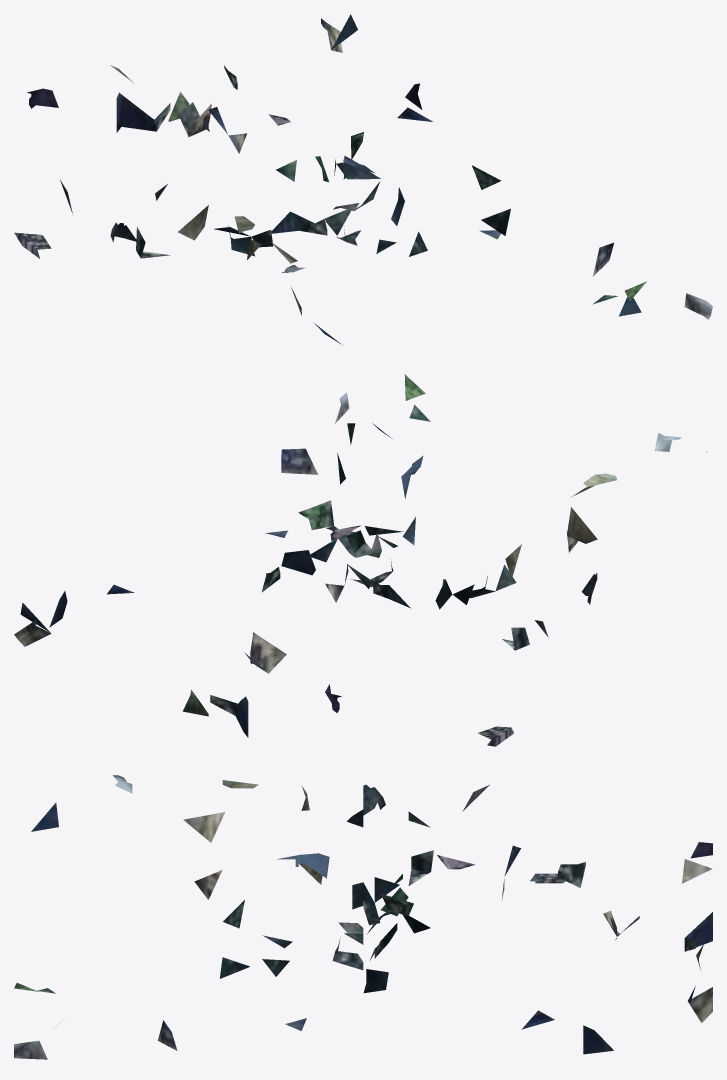
3 views of the same model, one above another, from view 1: azimuth 30°, elevation 25°; view 2: azimuth 150°, elevation 25°; view 3: azimuth 270°, elevation 25° (orthographic). The views are drawn at different scales.
Parts seen in each view (by area): view 1: 30436272704361536731_1; view 2: 30436272704361536731_1; view 3: 30436272704361536731_1.
Boxes of the visible parts, bbox=[...] form: 30436272704361536731_1: bbox=[14, 14, 712, 344]; 30436272704361536731_1: bbox=[14, 374, 706, 746]; 30436272704361536731_1: bbox=[14, 775, 712, 1059].
Size of the model in its own units: 27.16 by 7.71 by 38.26.
1 material, 1 textured.
